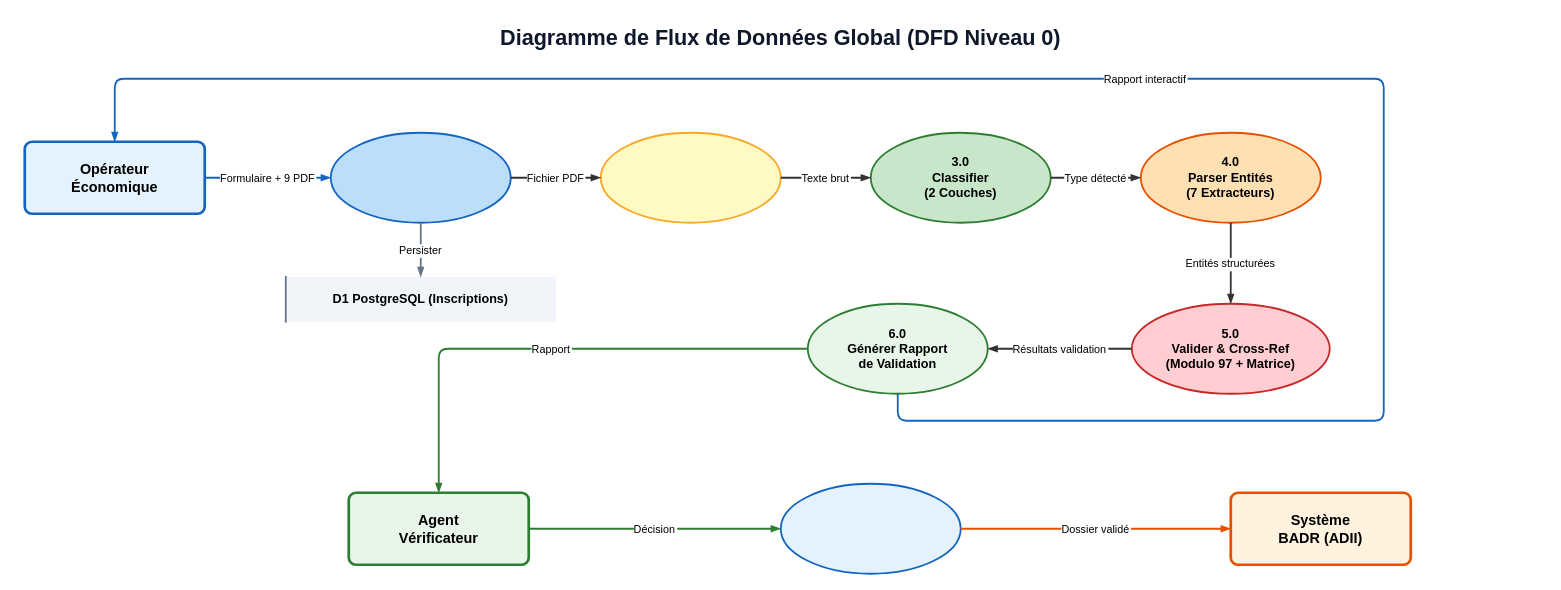
This 1561x590 diagram has some shape labels left out. Each missing label, with the box of its shape:
1.0 Recevoir Formulaire & Documents PDF: (329, 131, 511, 223)
2.0 Extraire Texte (PyMuPDF / OCR): (599, 131, 781, 223)
7.0 Homologuer & Synchroniser: (779, 482, 961, 574)
